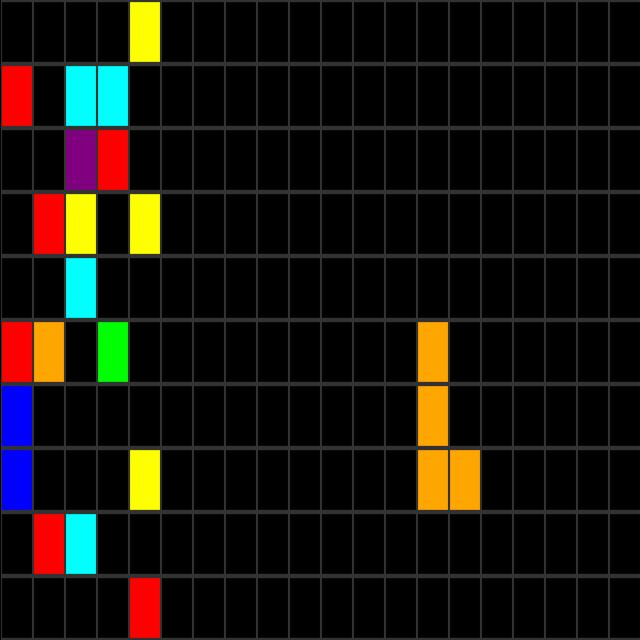Tetrimino_I: (418, 318, 478, 510)
